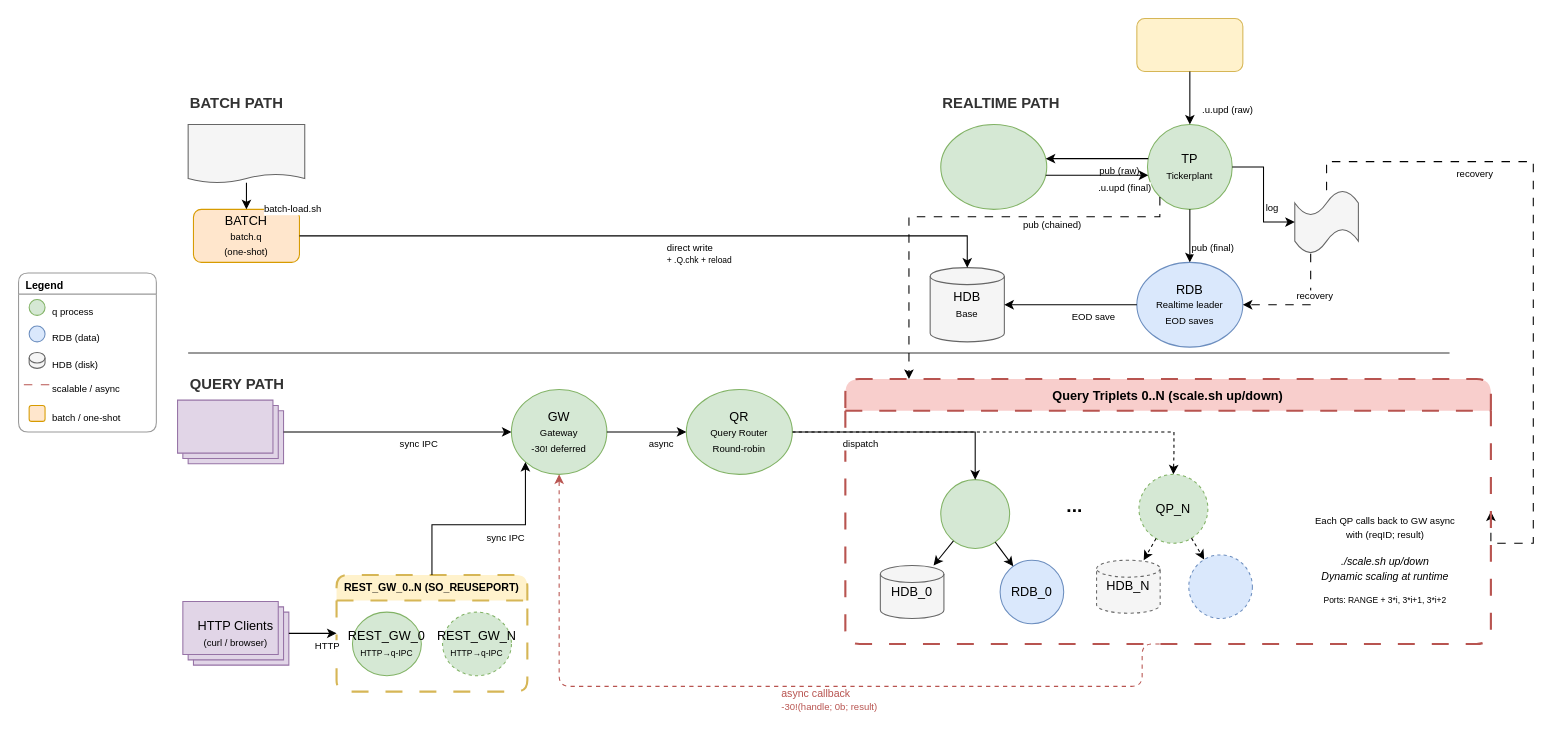
This 1560x732 diagram has some shape labels left out. The centre of each missing label's shape, as x and y in pixels:
FH Feedhandler: (1189,44)
Files CSV / TXT / Parquet (.gz .zip .zst): (246,153)
q Clients (pykx / MCP): (230,431)
QP_0: (975,514)
RDB_N: (1220,586)
RTE Real-Time Engine subscribe raw publish final: (993,166)
TP Log: (1326,221)
